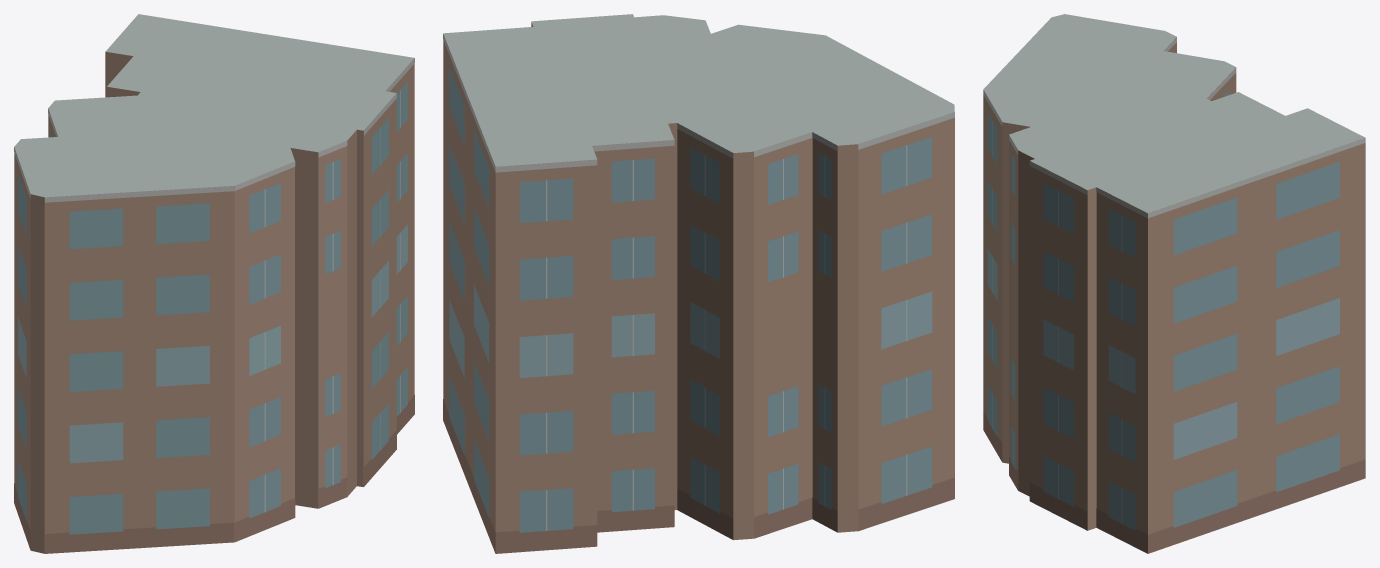
File: survey-upis-32630913.glb
3 views of the same model, side by side, from view 1: azimuth 30°, elevation 25°; view 2: azimuth 150°, elevation 25°; view 3: azimuth 270°, elevation 25° (orthographic). The views are drawn at different scales.
Visible parts, largest first — view 1: survey-upis-32630913.tmp; view 2: survey-upis-32630913.tmp; view 3: survey-upis-32630913.tmp.
Part boxes in pixels (x1,y1,x2,y2): survey-upis-32630913.tmp: (14,14,414,553); survey-upis-32630913.tmp: (443,14,954,553); survey-upis-32630913.tmp: (983,14,1365,553).
Size of the model in its own units: 20.54 by 16.35 by 16.65.
